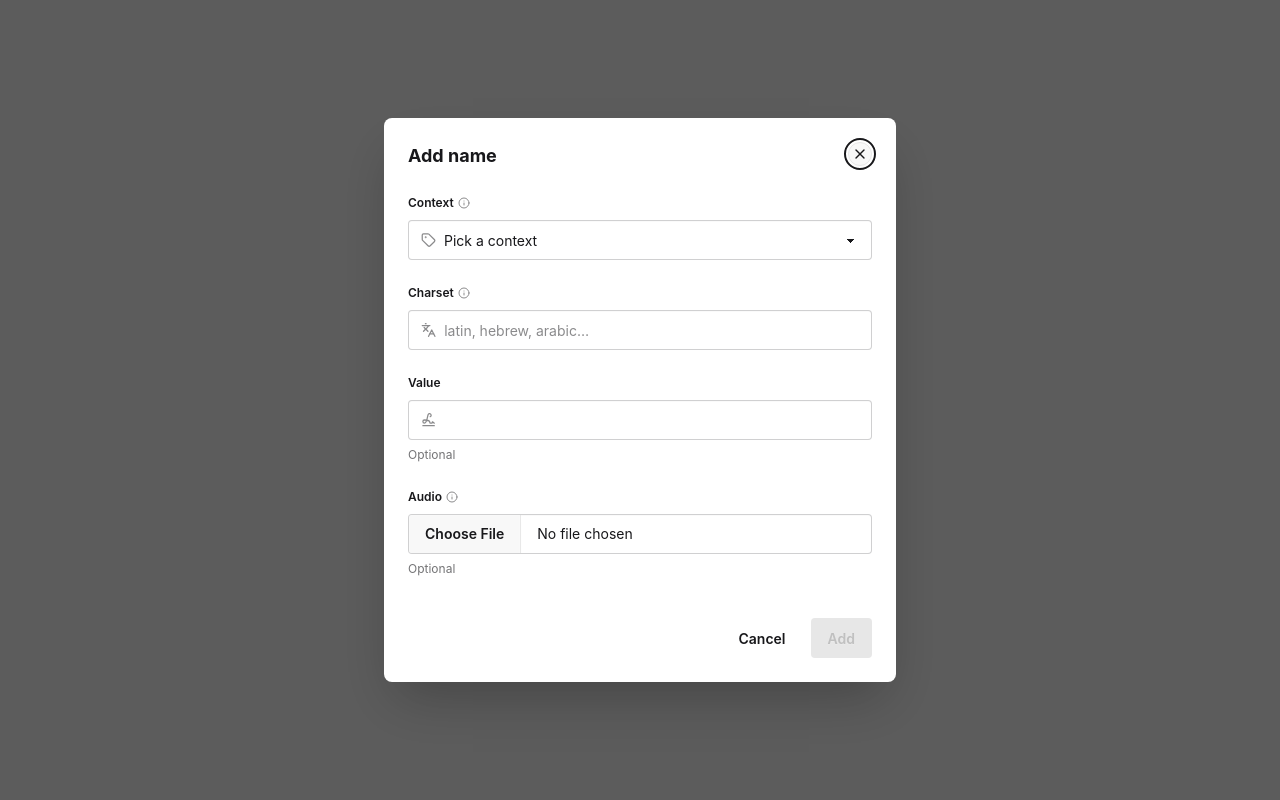
Test case: NameFormModal › shows a generic error when submit fails with a string error
The width and height of the screenshot is (1280, 800).
Note: Select context and type in charset and submit
Select "legal" in the dropdown at (652, 240), box [432,222,871,258]
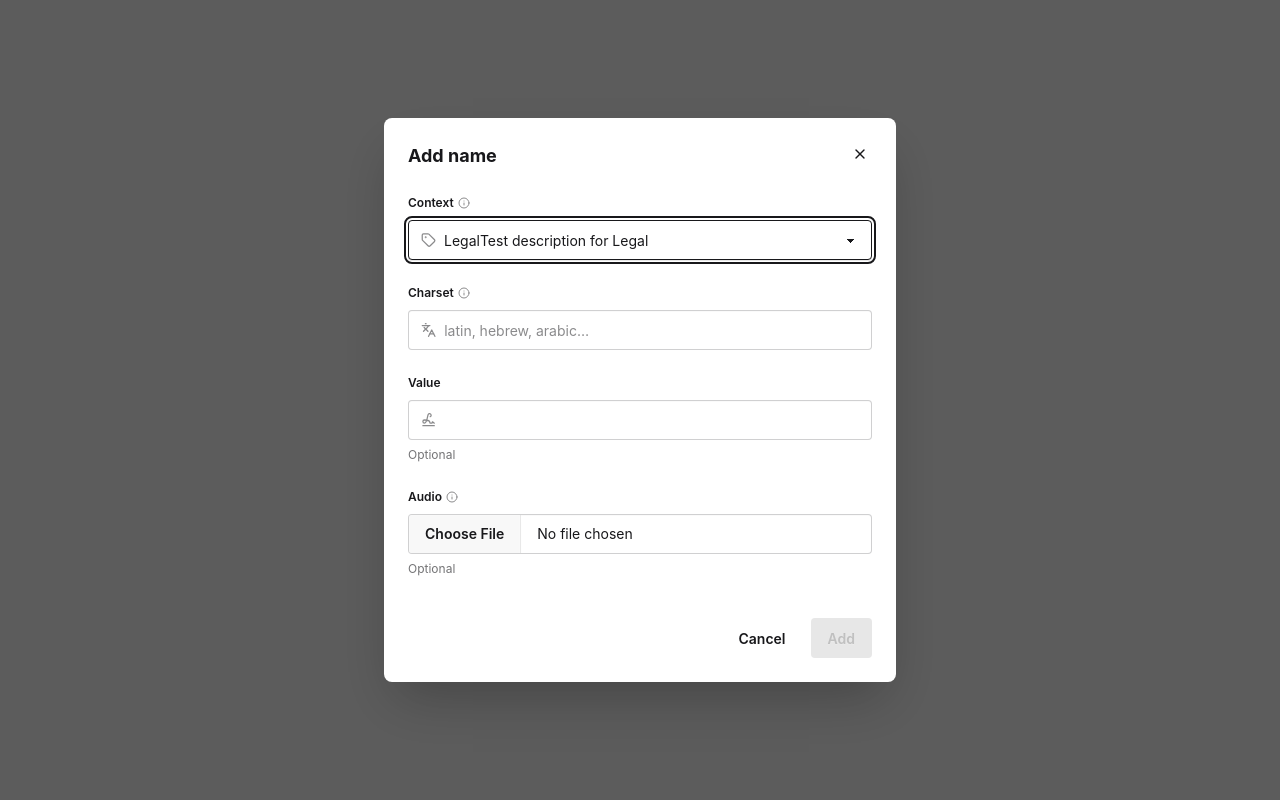
Type "latin" into the field with placeholder "latin, hebrew, arabic…" at (652, 330), box [444,311,859,349]
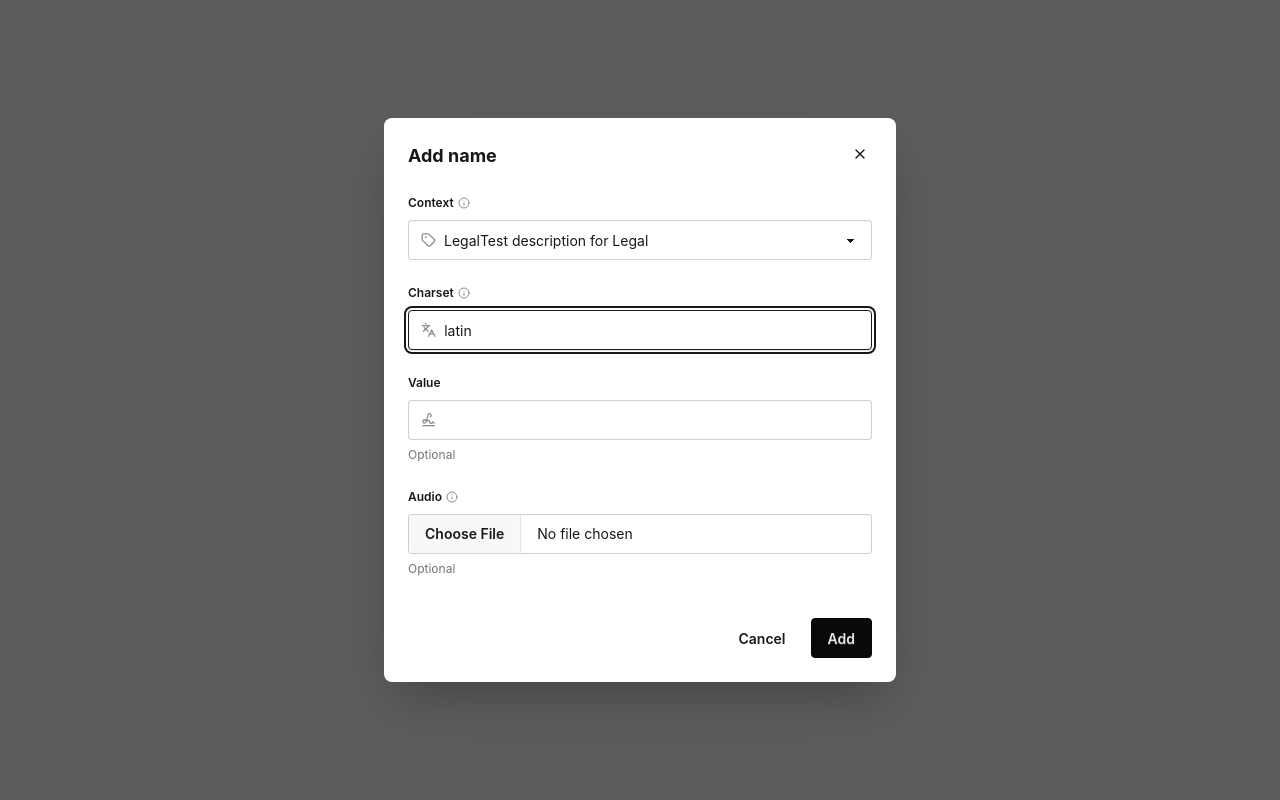
Click the button "Add" at (841, 638), box [810,618,872,658]
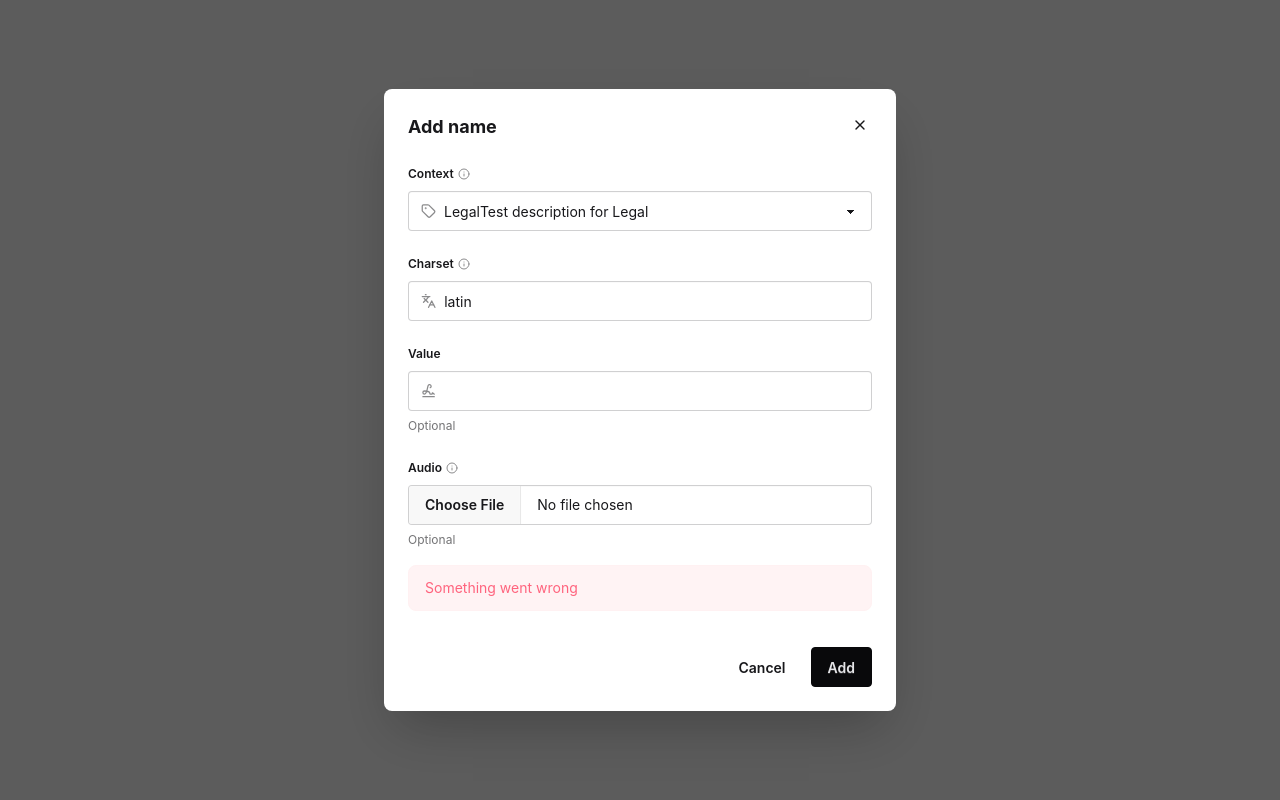
Now the message reads "Something went wrong", box [425,579,578,596]
